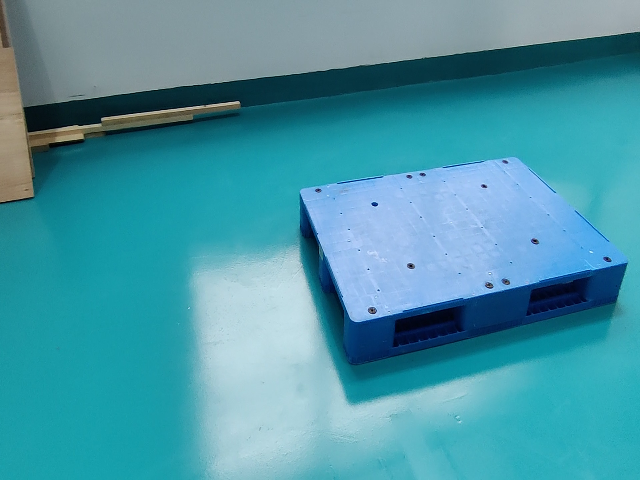block: (340, 313, 393, 366), (299, 190, 308, 240), (319, 247, 325, 290)
front: (295, 187, 356, 371)
hole pallet: (323, 267, 344, 347), (303, 204, 319, 278)
